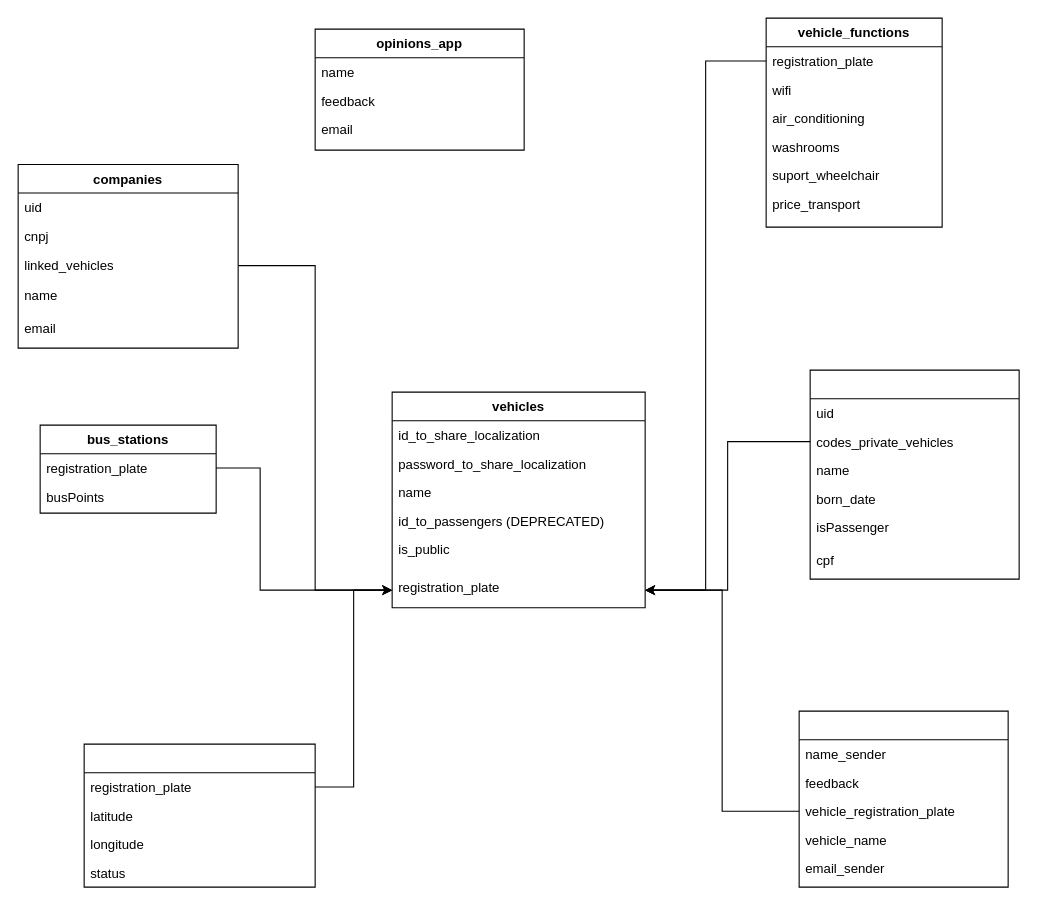
This 1037x905 diagram has some shape labels left out. The shapes that lost their labels are listed below. From the top down, each one's box as (x1, y1, x2, y2) in pixels, then its label:
(809, 369, 1019, 579): passengers
(83, 743, 315, 887): REAL_TIME_LOCALIZATION
(798, 710, 1008, 887): opinions_vehicle
